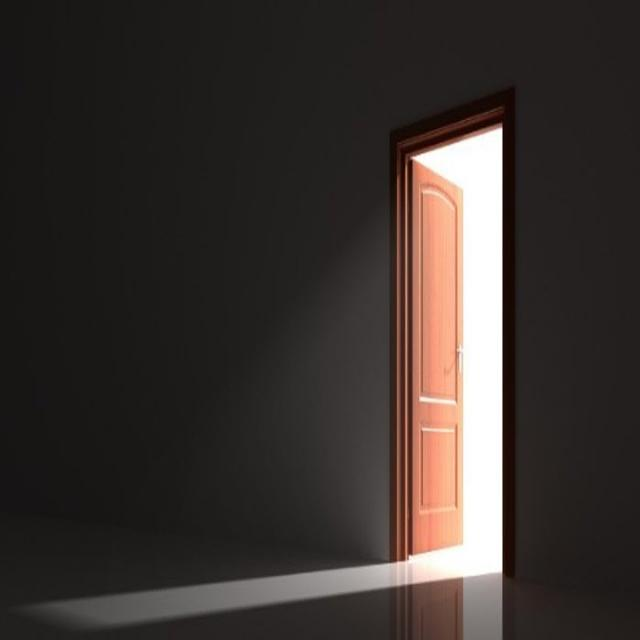open: (396, 147, 507, 573)
